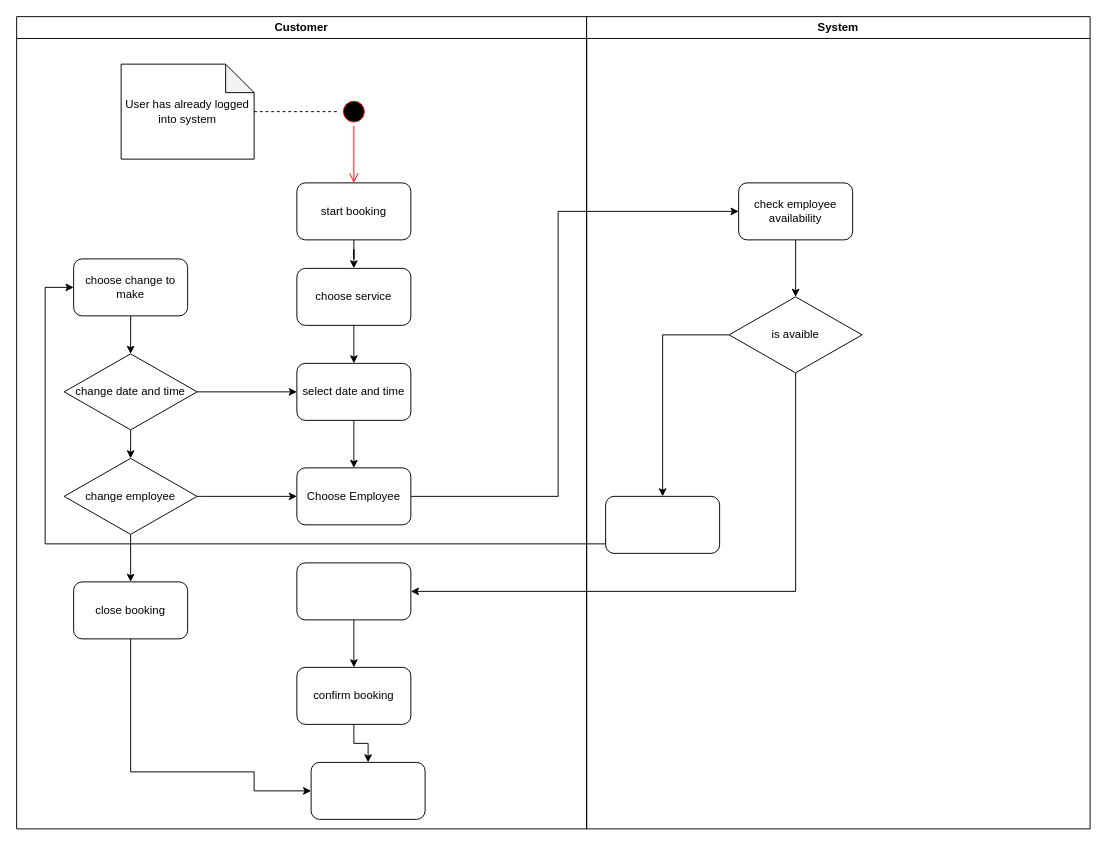
This 1107x846 diagram has some shape labels left out. The centre of each missing label's shape, as x and y in pixels:
message "stylist not avaible choose a new stylist or change day": (x=662, y=524)
review: (x=353, y=591)
View Dashboard: (x=367, y=790)
